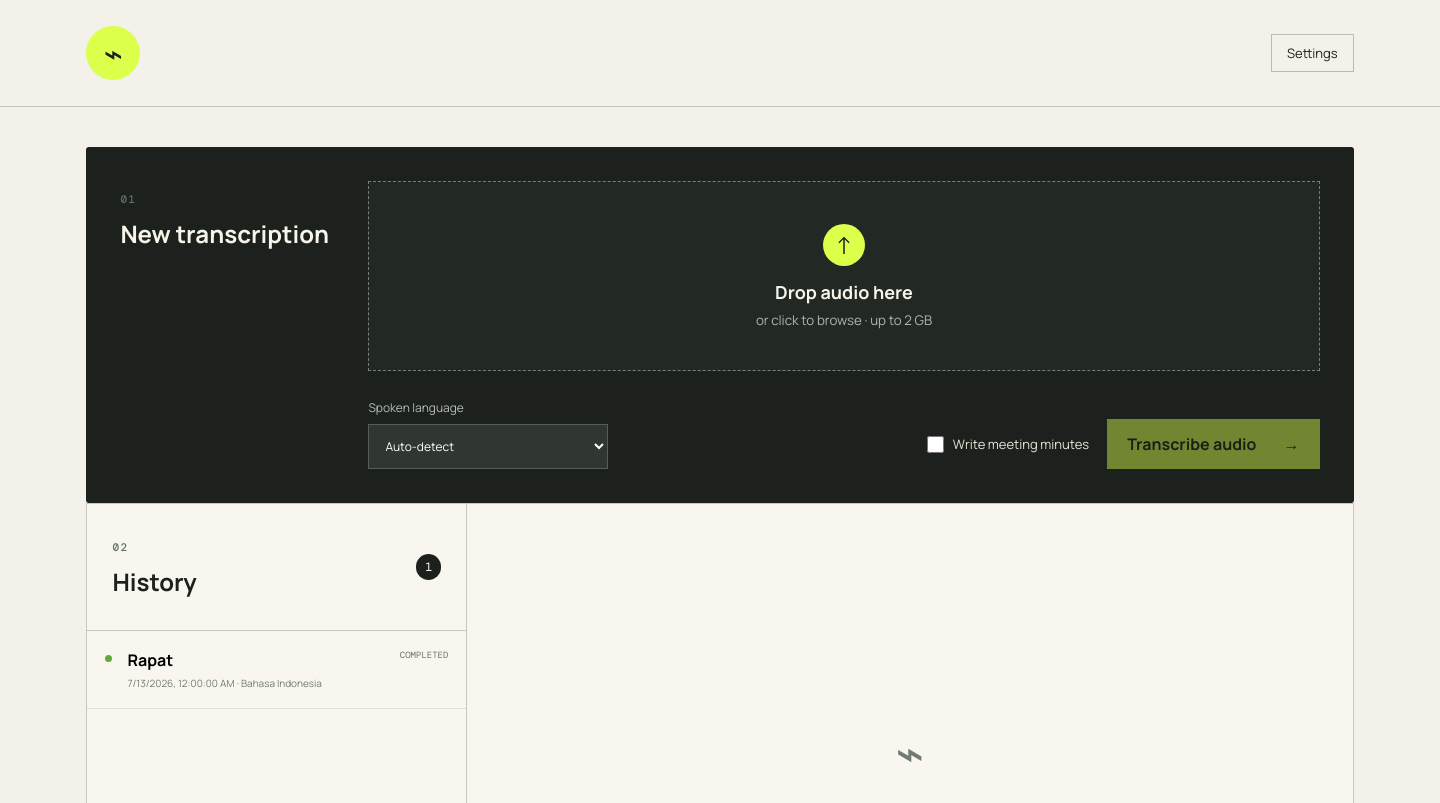
lets the full transcript be hidden to reduce clutter
Click the button "Rapat 7/13/2026, 12:00:00 AM · Bahasa Indonesia completed": (150, 660) [87,631,466,709]
(page scrolled)
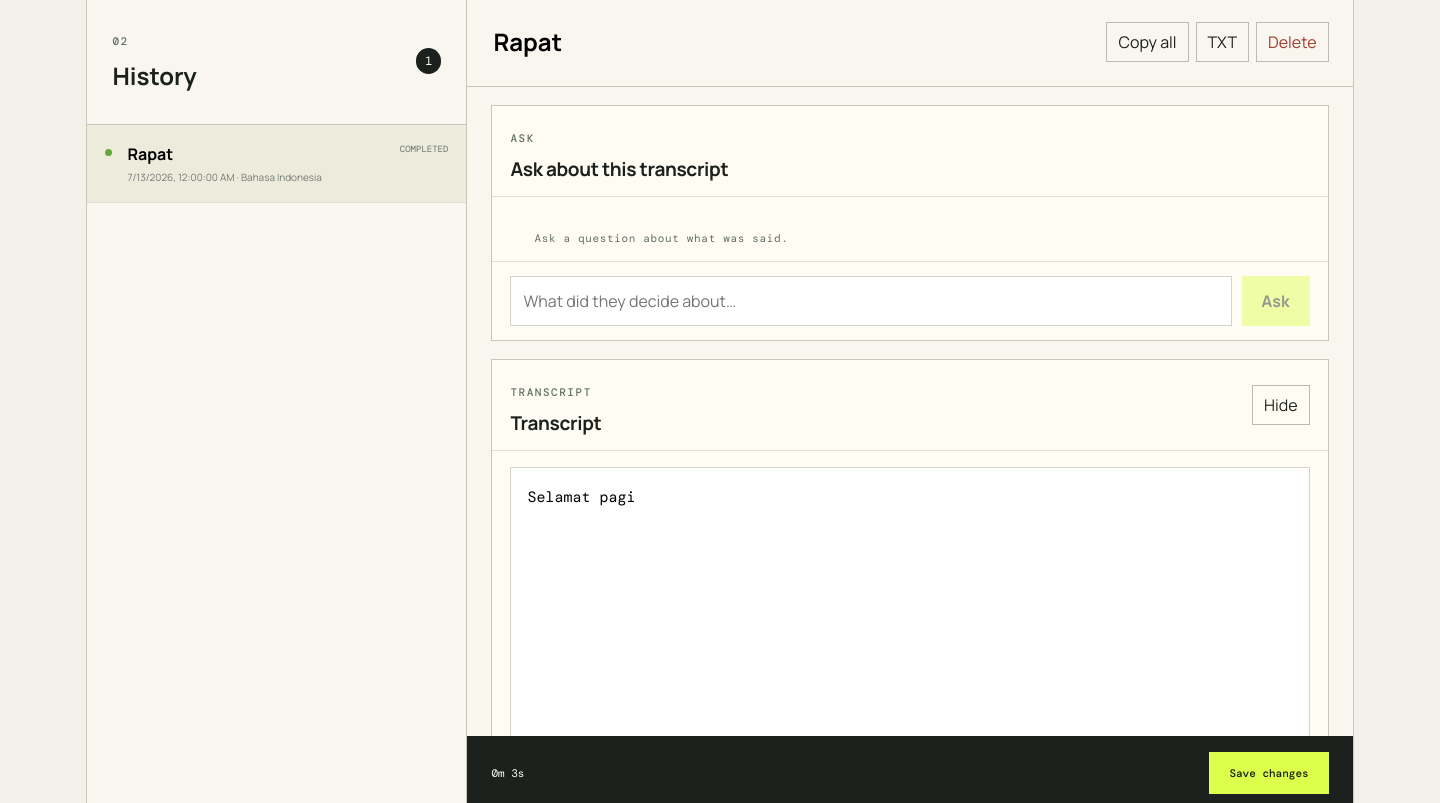
Expected: the text box named "Full transcript" is shown, [510,467,1310,764]
Click the button with aria-label "Hide transcript": (1281, 405) [1252,385,1310,425]
(page scrolled)
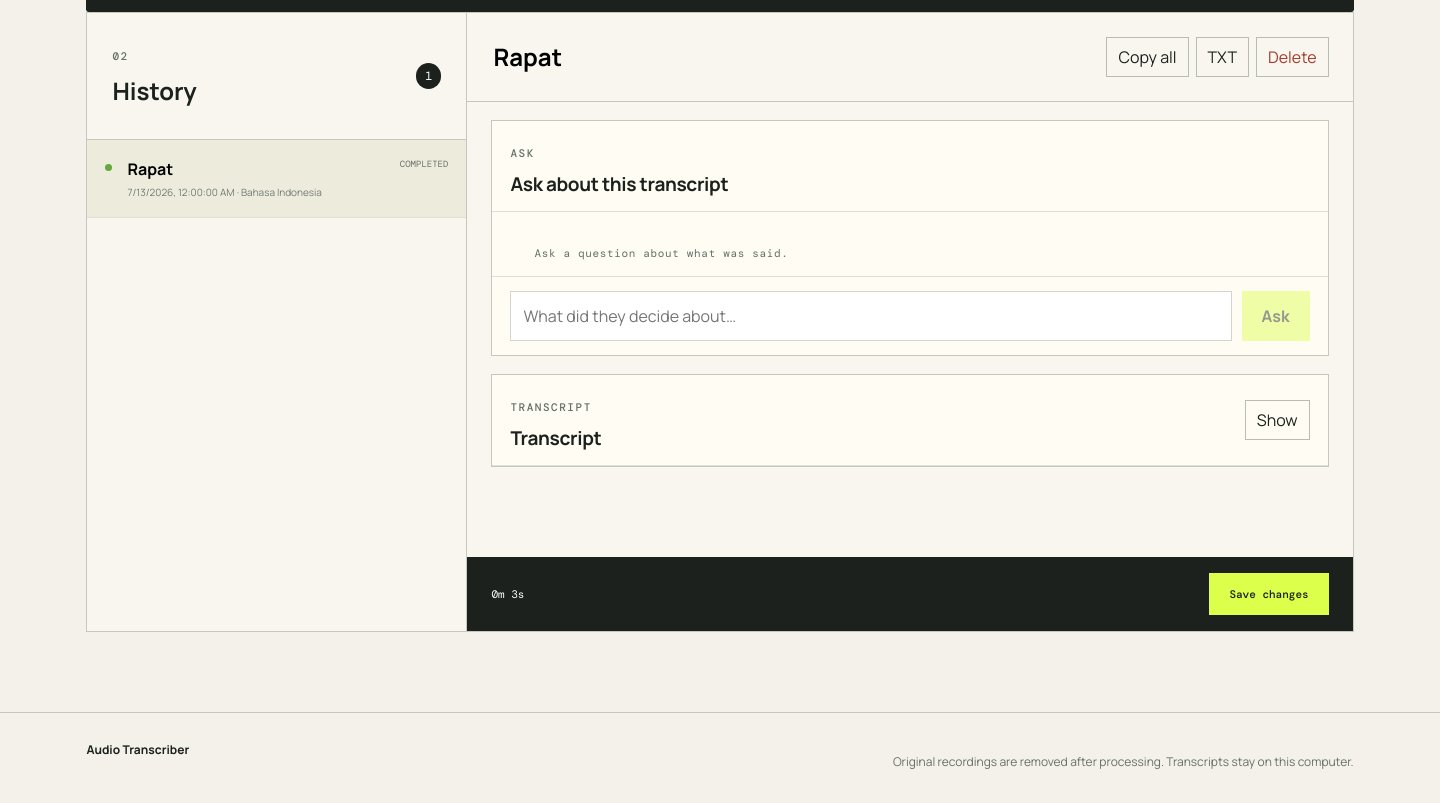
Click the button with aria-label "Show transcript": (1277, 420) [1245,400,1310,440]
(page scrolled)
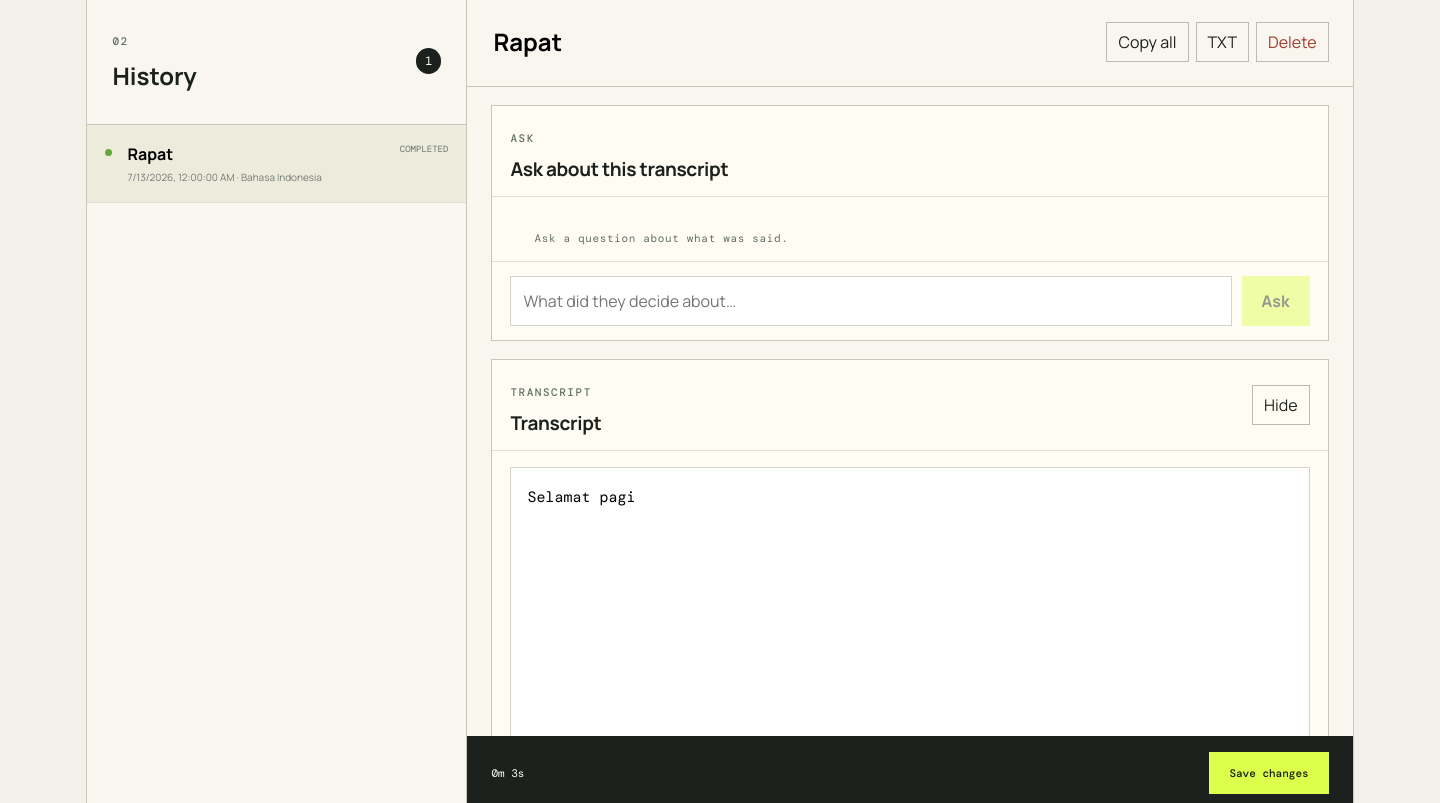
Expected: the text box named "Full transcript" is shown, [510,467,1310,764]
